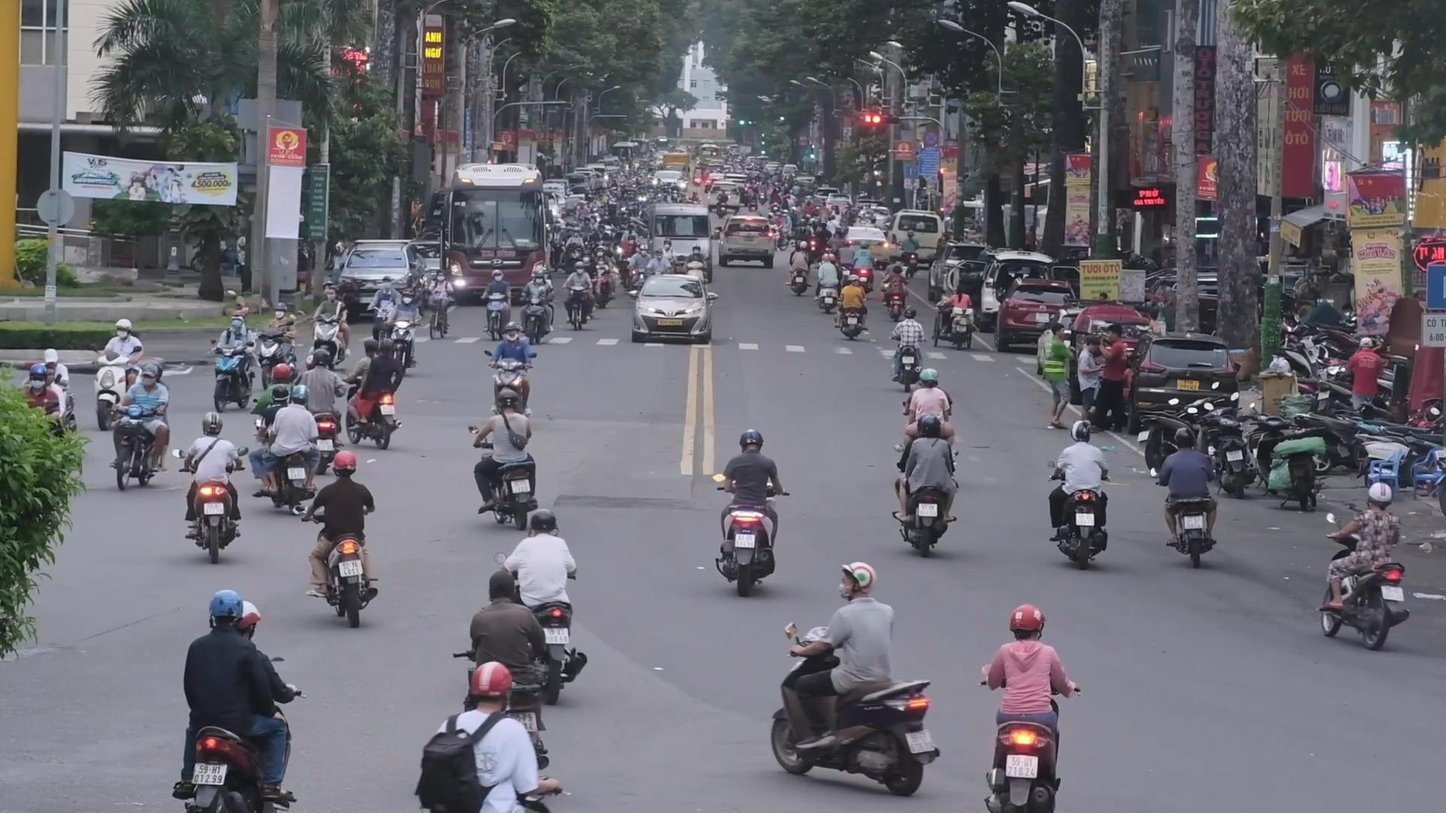bicyclist: (366, 275, 401, 340), (423, 269, 455, 340)
driver: (770, 561, 940, 798), (172, 589, 307, 813), (413, 661, 572, 813), (978, 602, 1082, 813), (494, 509, 587, 705), (1316, 481, 1411, 651), (292, 450, 379, 628), (715, 430, 790, 597), (171, 412, 250, 564), (468, 389, 538, 530), (891, 413, 959, 558), (248, 384, 321, 517), (1047, 420, 1111, 570), (1151, 427, 1218, 568), (107, 360, 169, 492), (341, 337, 403, 450), (298, 348, 349, 476), (90, 318, 145, 431), (211, 310, 262, 413), (484, 321, 537, 419), (255, 303, 303, 390), (309, 280, 351, 371), (383, 288, 423, 375), (889, 305, 927, 393), (518, 269, 555, 345), (561, 261, 596, 331), (834, 274, 868, 340), (480, 269, 511, 341), (813, 253, 842, 314), (882, 265, 910, 322), (786, 240, 813, 297)
helmet: (469, 662, 513, 713), (839, 561, 877, 601), (1010, 602, 1047, 641), (209, 588, 242, 630), (235, 600, 262, 641), (527, 508, 559, 538), (1366, 481, 1392, 512), (333, 450, 356, 479), (495, 389, 520, 415), (739, 429, 764, 453), (1174, 427, 1197, 451), (1070, 419, 1092, 444), (202, 412, 223, 437), (921, 414, 941, 438), (29, 364, 48, 389), (919, 367, 939, 389), (271, 363, 291, 384), (292, 384, 310, 405), (115, 318, 132, 340), (313, 349, 331, 369), (272, 385, 290, 405), (505, 321, 521, 342), (274, 303, 287, 320), (904, 304, 917, 319)
no-helmet: (489, 570, 515, 602), (141, 363, 159, 387)
